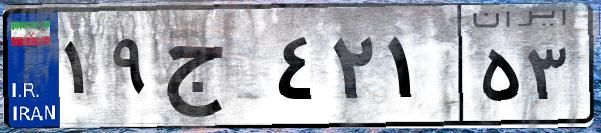1: (385, 28, 445, 110), (57, 26, 110, 100)
2: (330, 28, 385, 110)
3: (525, 38, 570, 115)
4: (270, 28, 330, 110)
5: (475, 38, 525, 113)
9: (110, 28, 158, 98)
ج: (158, 20, 270, 120)
